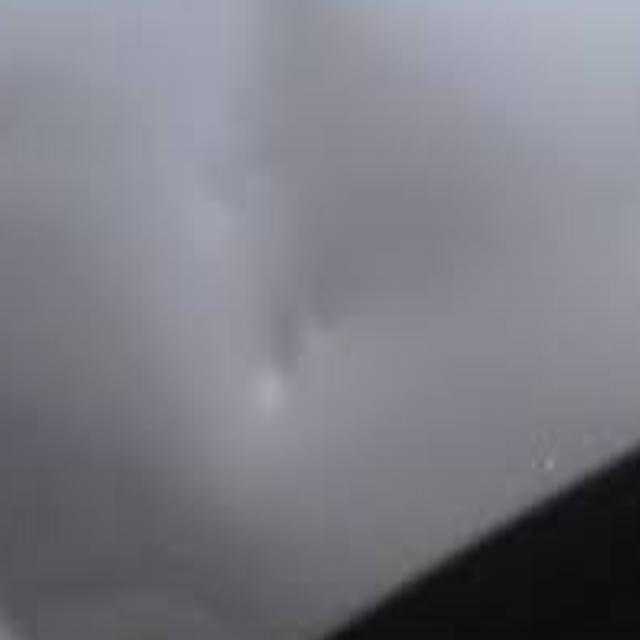dents: (247, 339, 304, 462), (300, 290, 393, 342), (192, 176, 245, 246)
